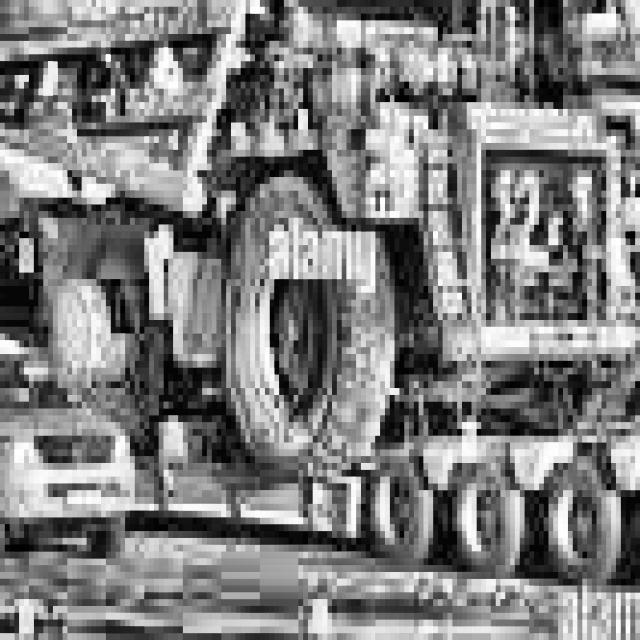dump_truck: (0, 0, 640, 477)
light_vehicle: (0, 306, 168, 592)
